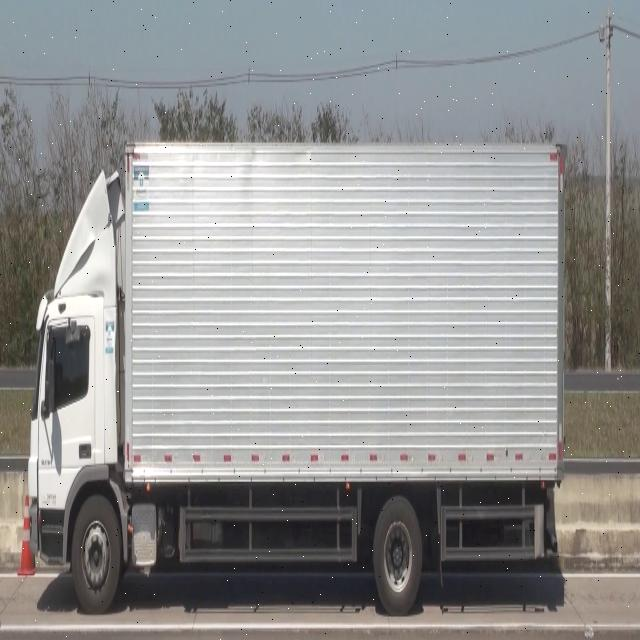-axle: (70, 495, 122, 612), (374, 497, 420, 612)
